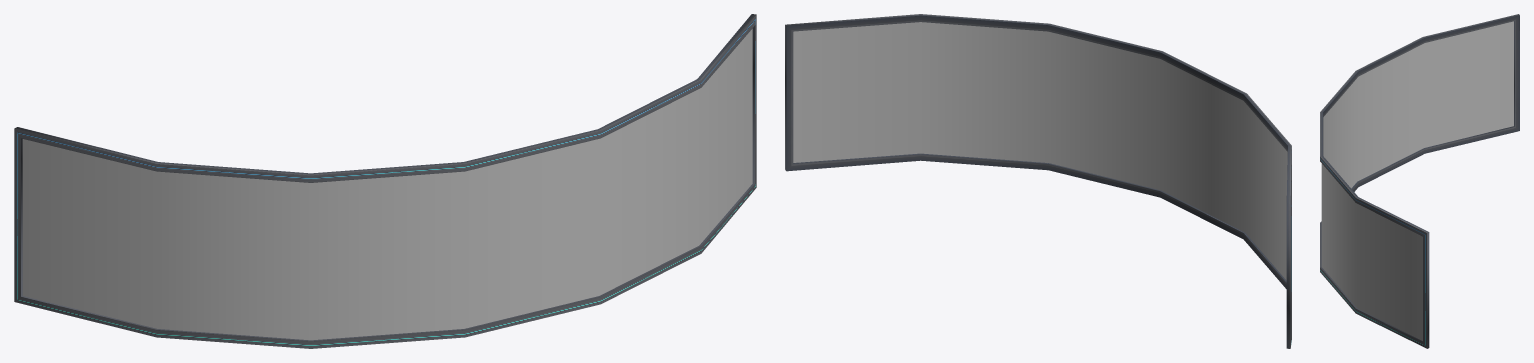
File: mesh_1002_guangao5.FBX
3 renders of one model, left to right at view 1: azimuth 30°, elevation 25°; view 2: azimuth 150°, elevation 25°; view 3: azimuth 270°, elevation 25°, orthographic. The views are drawn at different scales.
Parts seen in each view (by area): view 1: mesh_1002_guangao5a, mesh_1002_guangao5b; view 2: mesh_1002_guangao5a, mesh_1002_guangao5b; view 3: mesh_1002_guangao5a, mesh_1002_guangao5b.
Part boxes in pixels (<box>): mesh_1002_guangao5a: <box>22,28,752,340</box>; mesh_1002_guangao5b: <box>14,14,756,348</box>; mesh_1002_guangao5a: <box>793,22,1287,280</box>; mesh_1002_guangao5b: <box>785,14,1291,348</box>; mesh_1002_guangao5a: <box>1321,21,1513,340</box>; mesh_1002_guangao5b: <box>1320,14,1519,348</box>.
Size of the model in its own units: 1051 by 259 by 405.
